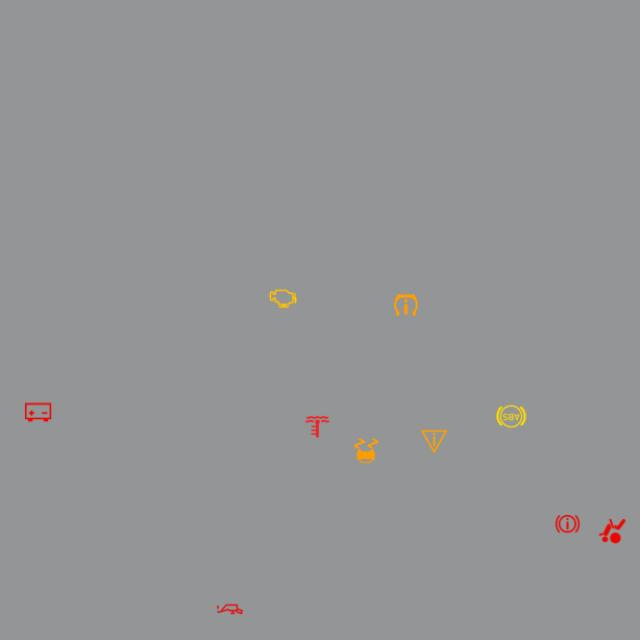Anti Lock Braking System: (495, 400, 528, 433)
Braking System Issue: (551, 508, 584, 540)
Charging System Issue: (22, 396, 54, 428)
Check Engine: (267, 282, 299, 315)
Electronic Stability Problem -ESP-: (350, 435, 383, 467)
Engine Overheating Warning Light: (301, 411, 334, 443)
Low Engine Oil Warning Light: (214, 593, 246, 626)
Low Tire Pressure Warning Light: (390, 289, 422, 321)
Master warning light: (418, 425, 450, 458)
SRS-Airbag: (596, 515, 629, 547)
